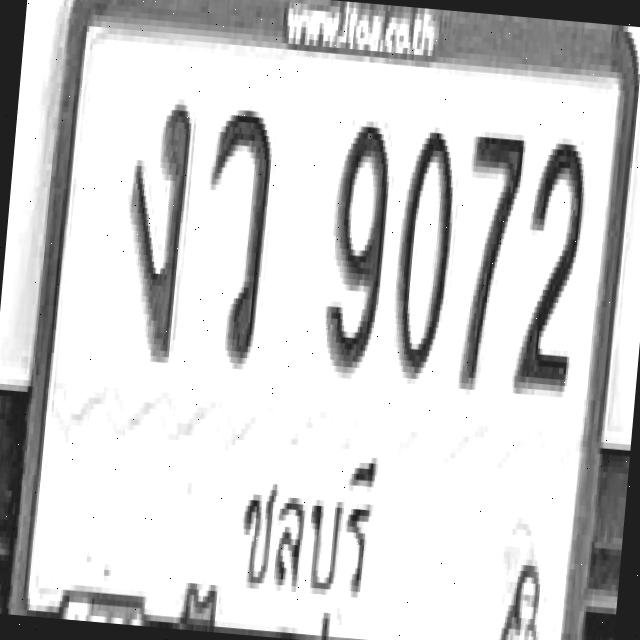0: (387, 124, 459, 380)
16NgorNgu: (114, 94, 194, 357)
2: (512, 136, 590, 392)
46WorWaen: (192, 101, 276, 364)
7: (452, 127, 526, 389)
9: (320, 116, 394, 372)
Chonburi: (222, 433, 383, 640)
